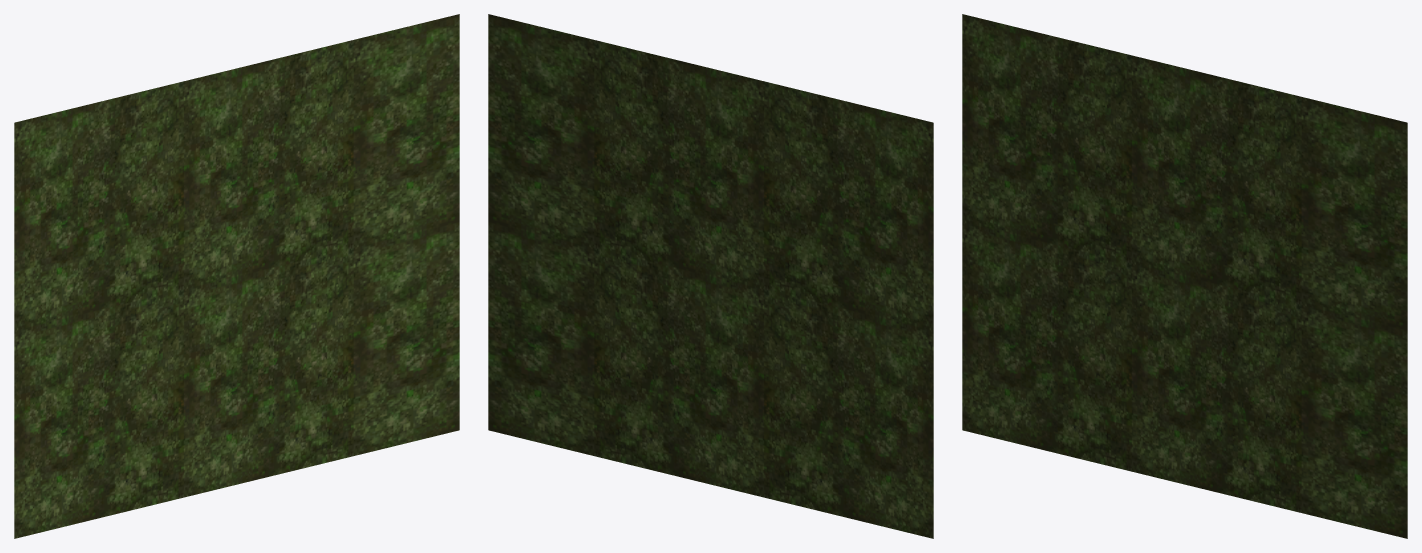
Rendered from OVERHILL_A_01_LINE196.fbx.
The picture shows the model from 3 angles, left to right: view 1: azimuth 30°, elevation 25°; view 2: azimuth 150°, elevation 25°; view 3: azimuth 330°, elevation 25°; orthographic projection.
Visible parts, largest first — view 1: OVERHILL_A_01_LINE196; view 2: OVERHILL_A_01_LINE196; view 3: OVERHILL_A_01_LINE196.
Boxes of the visible parts, x1=… form: OVERHILL_A_01_LINE196: x1=14, y1=14, x2=459, y2=538; OVERHILL_A_01_LINE196: x1=488, y1=14, x2=933, y2=538; OVERHILL_A_01_LINE196: x1=962, y1=14, x2=1407, y2=538.
Size of the model in its own units: 70000 by 62500 by 0.0102.
Materials: 1 (1 with a texture image).
